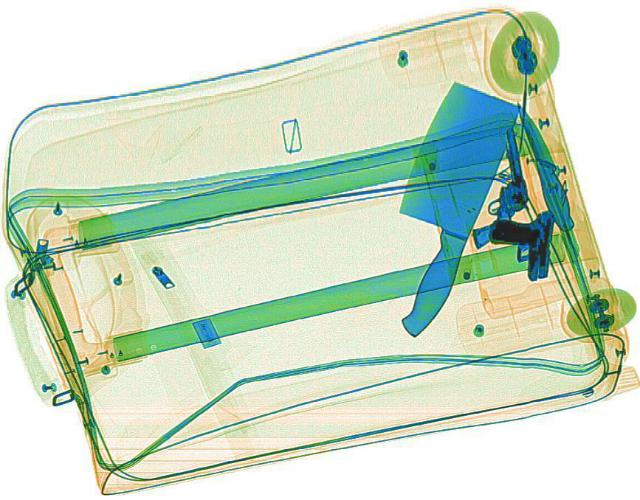Gun: (448, 127, 540, 248), (484, 209, 554, 279)
Knife: (353, 77, 525, 337), (502, 100, 580, 229)
